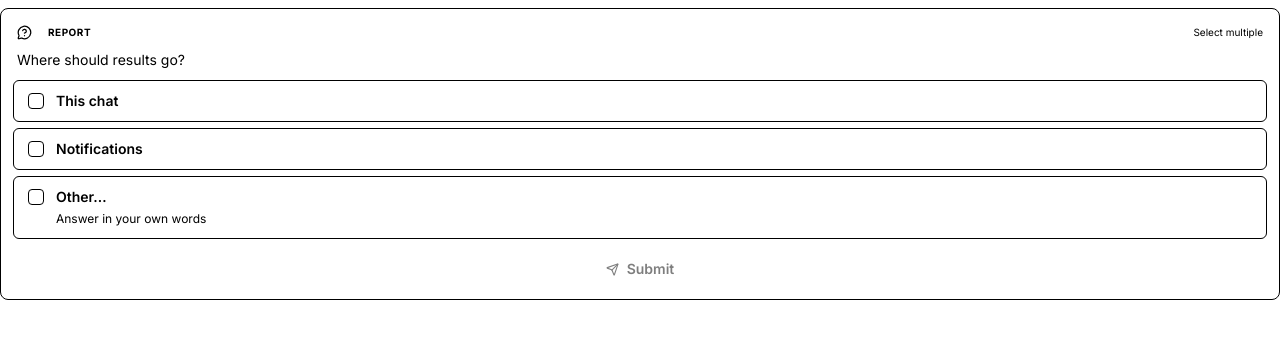
it: AskUserQuestion: Other… › turns the own words off again on a multi-select question
Step 1. Click the button "This chat" → (87, 100), box [13,80,1267,122]
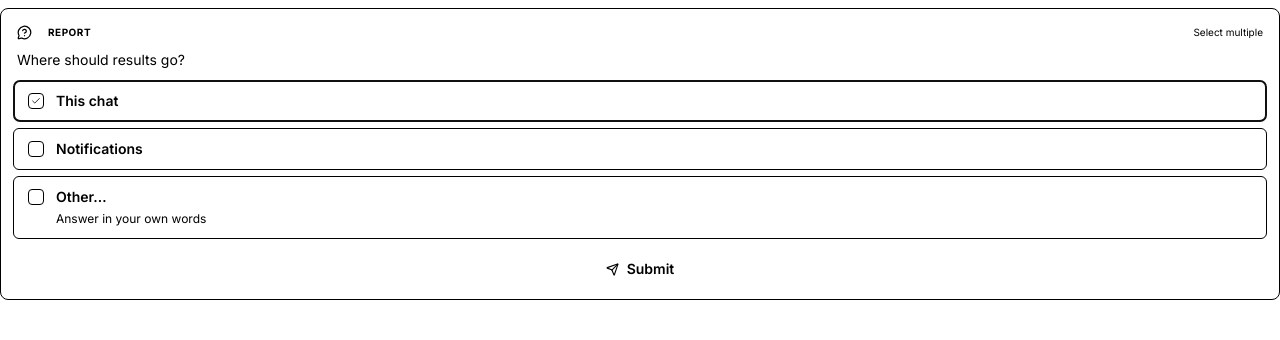
Step 2. Click the button "Other… Answer in your own words" → (81, 196), box [13,176,1267,239]
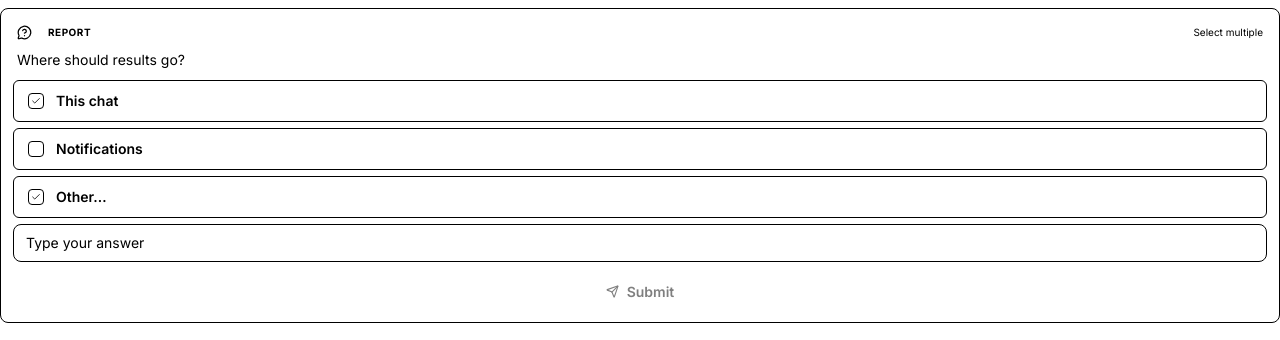
expect the button "Submit" is disabled: met, box [13,274,1267,310]
Step 3. Click the button "Other…" → (81, 196), box [13,176,1267,218]
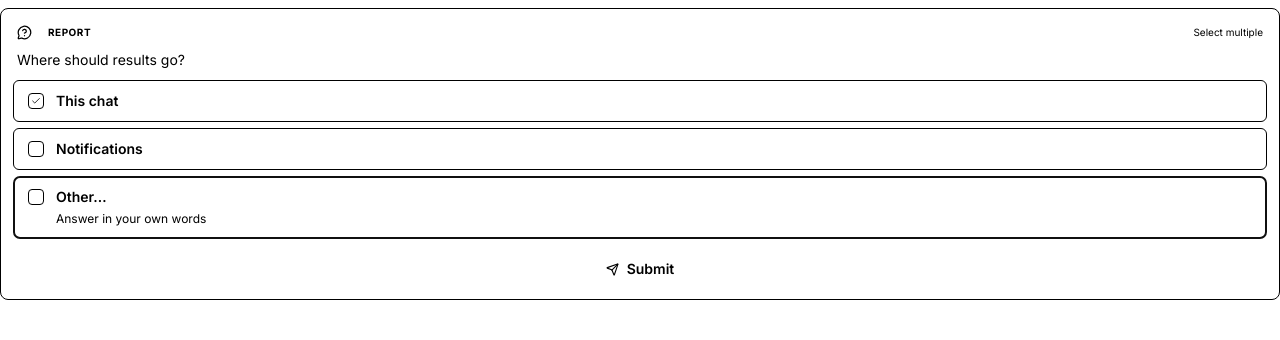
expect the field is gone: met
expect the button "Submit" is enabled: met, box [13,251,1267,287]
